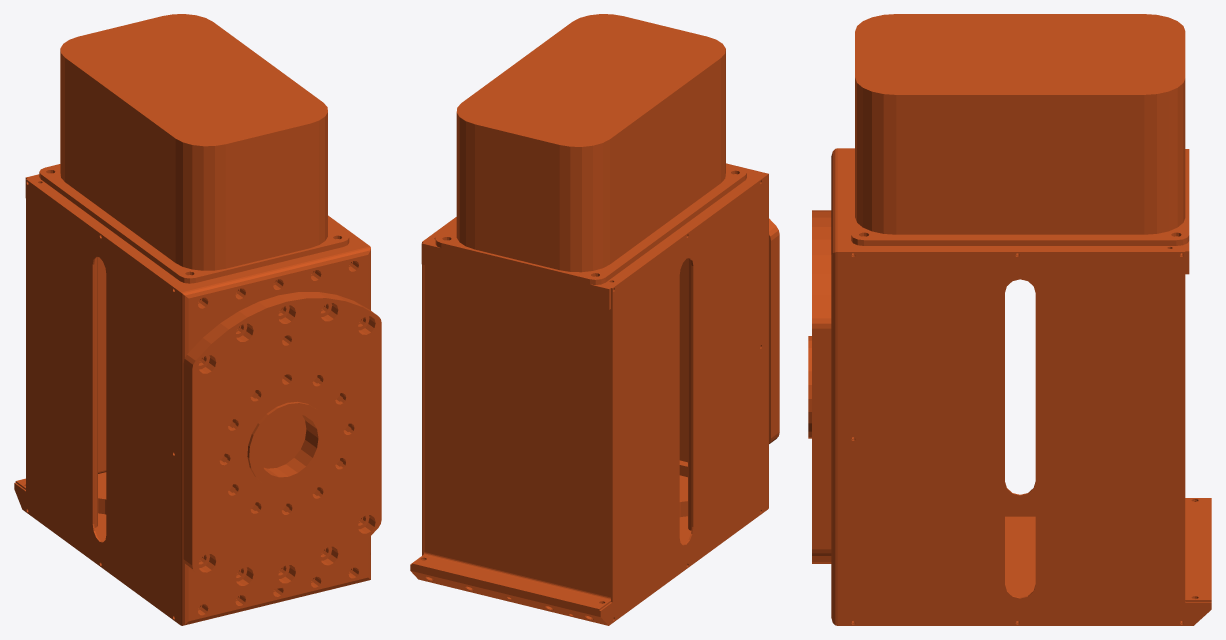
File: body.dae
The picture shows the model from 3 angles, left to right: view 1: azimuth 30°, elevation 25°; view 2: azimuth 150°, elevation 25°; view 3: azimuth 270°, elevation 25°; orthographic projection. The views are drawn at different scales.
Visible parts, largest first — view 1: node; view 2: node; view 3: node.
Boxes of the visible parts, x1,y1,x2,y2 form: node: [14, 14, 381, 625]; node: [410, 14, 779, 625]; node: [808, 14, 1211, 625].
Bounding box in the file's own units: 0.191 × 0.4526 × 0.314.
